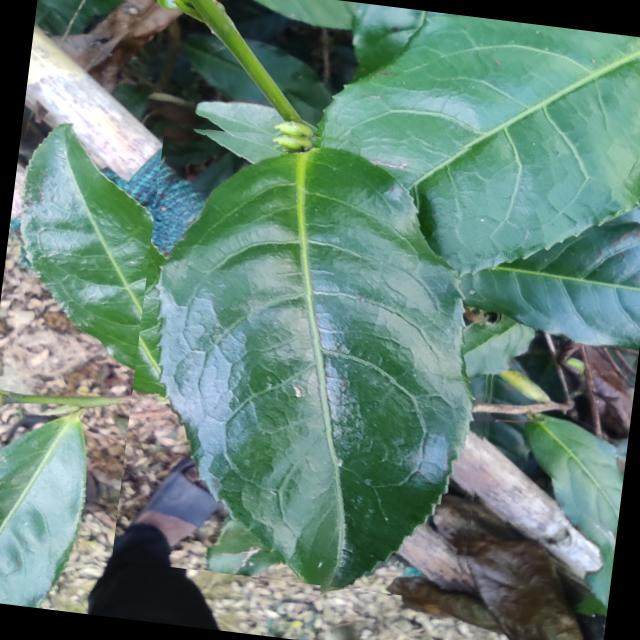Category D(7+ days, Not for Tea): (111, 108, 524, 603)
